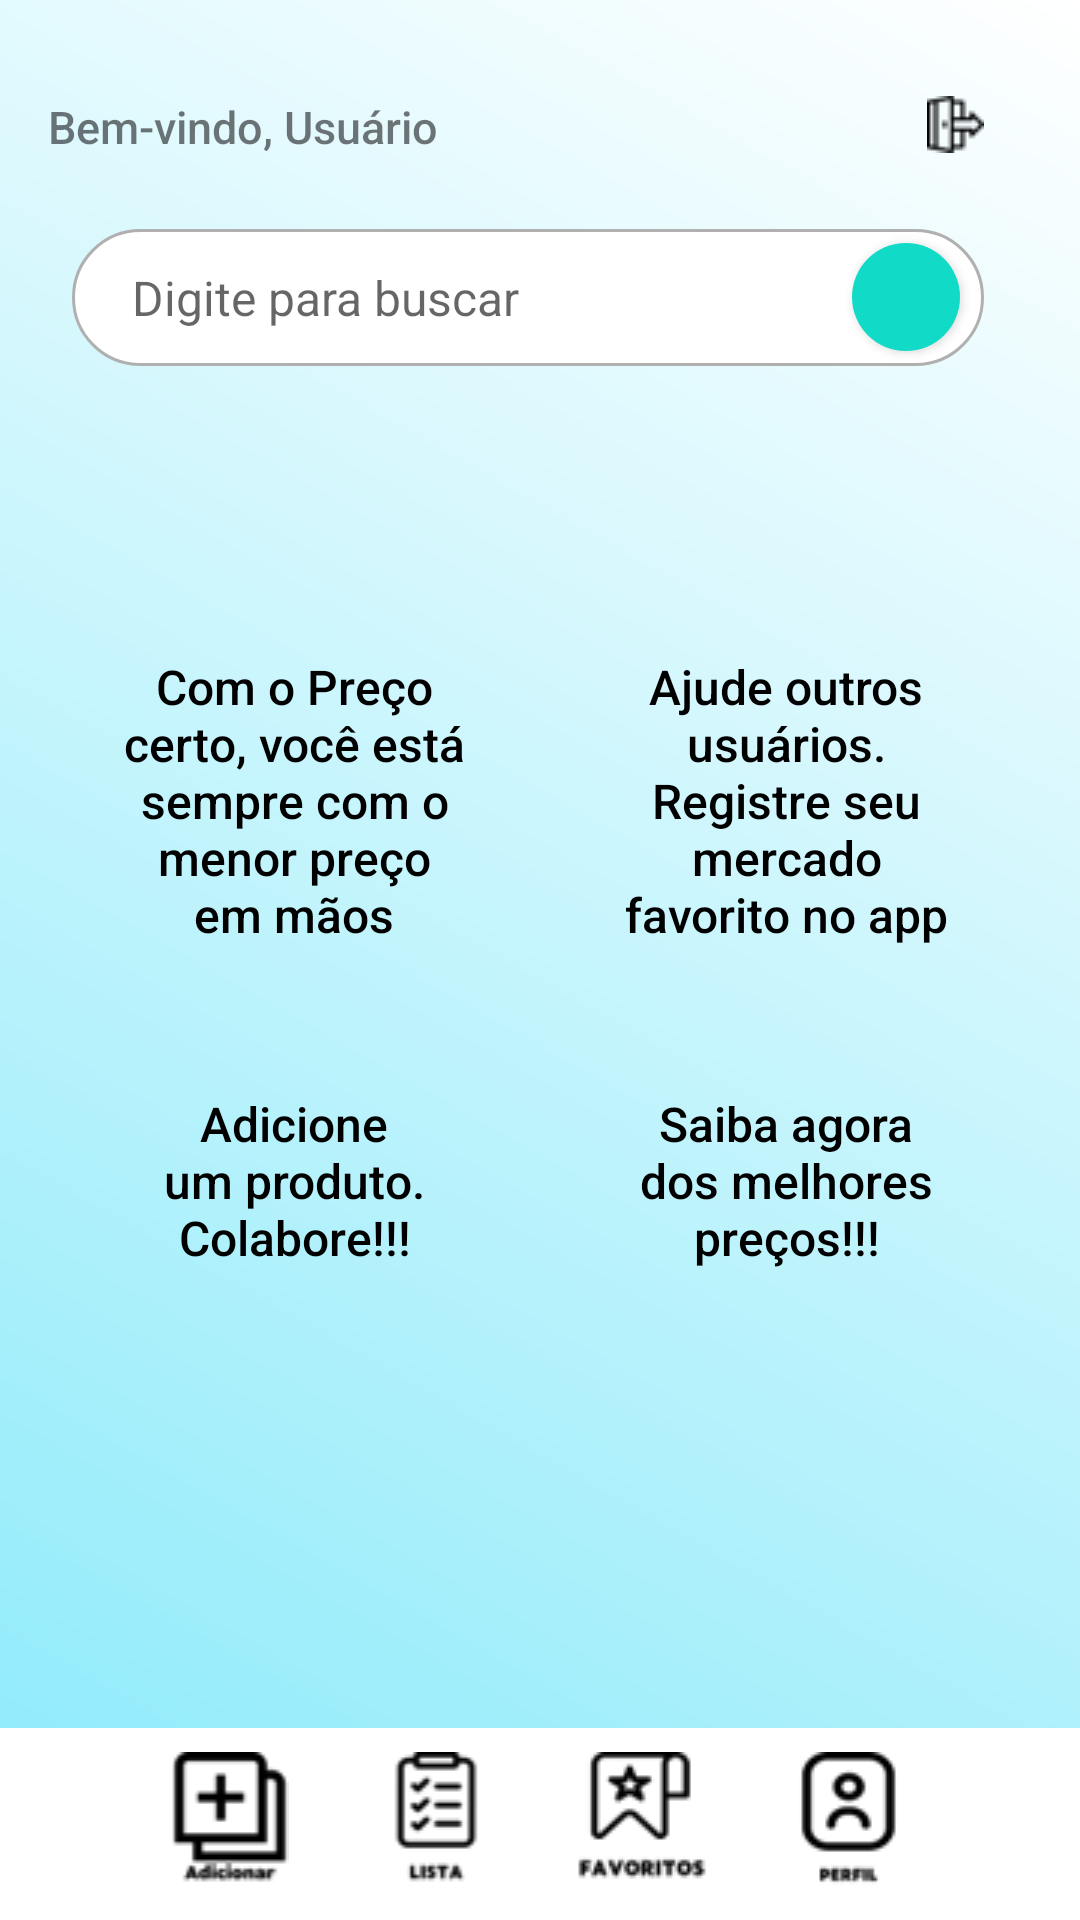

Named icons in this screenshot (1080w x 1920h) and their centers, (x=x, y=y):
Publicar: (x=230, y=1817)
Sair: (x=955, y=124)
